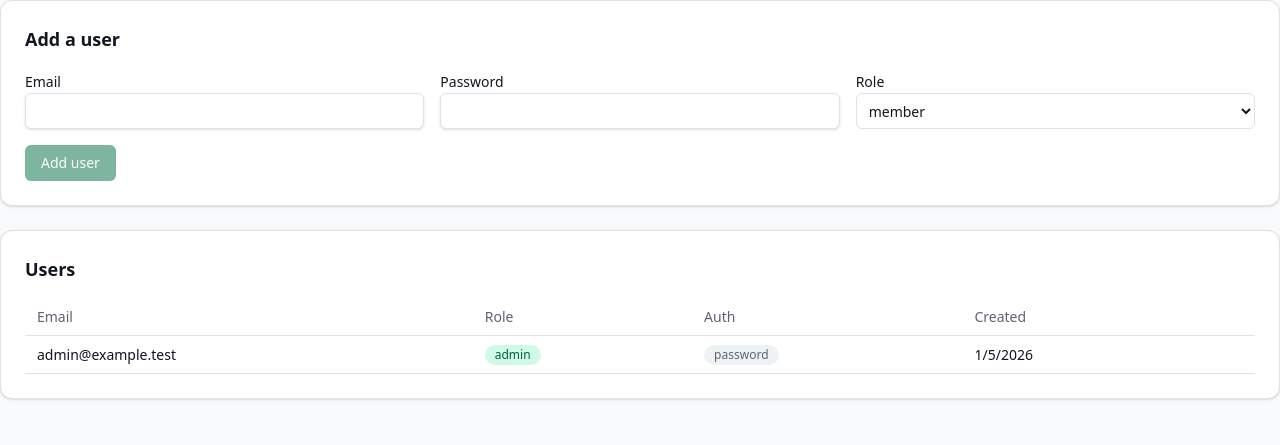
Scenario: Users › shows why the server refused the new user
The image size is (1280, 445).
Expected: the text "admin@example.test" is shown, [25,336,473,374]
Type "admin@example.test" into the field at (225, 111), box [25,93,424,129]
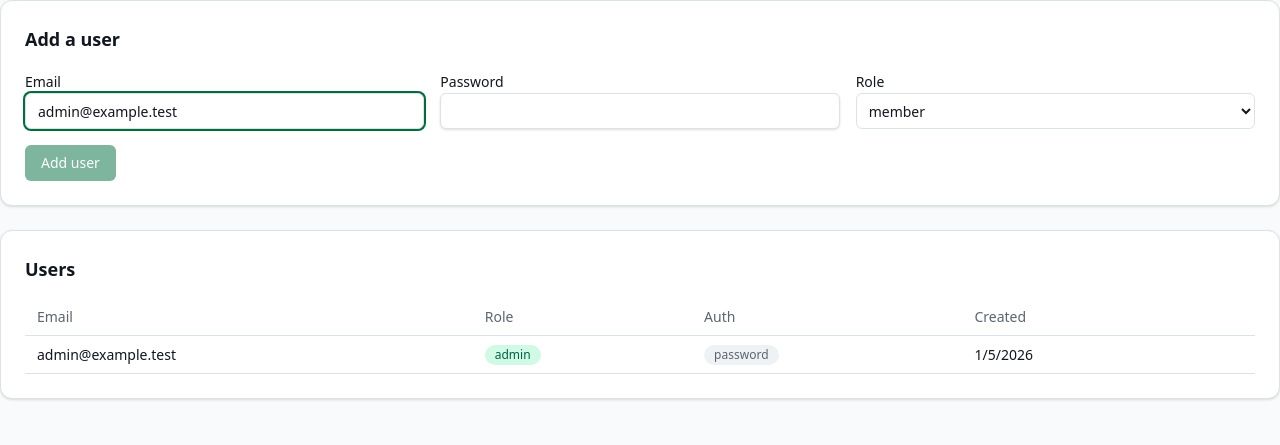
Type "long-enough" into the password field at (640, 111), box [440,93,840,129]
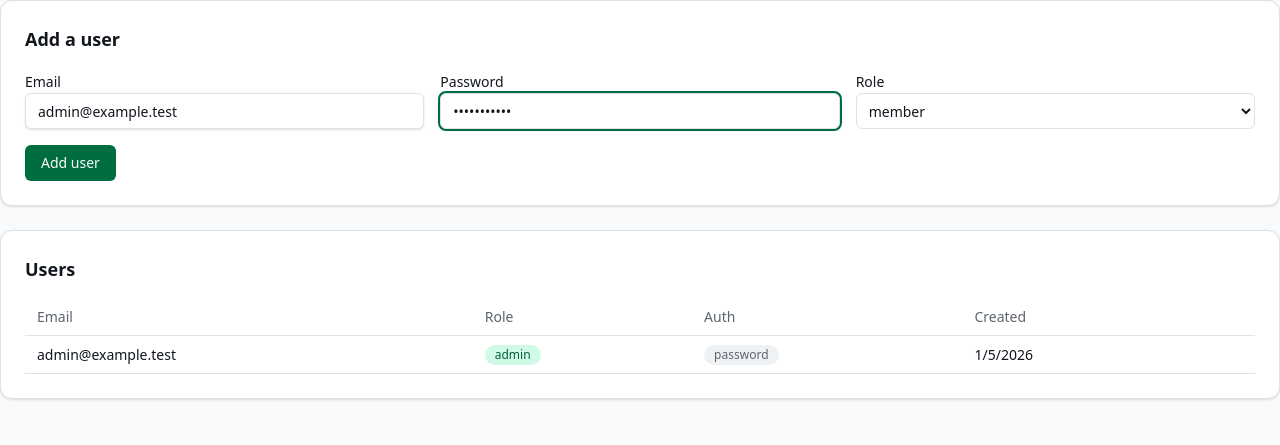
Click the button "Add user" at (70, 163), box [25,145,116,181]
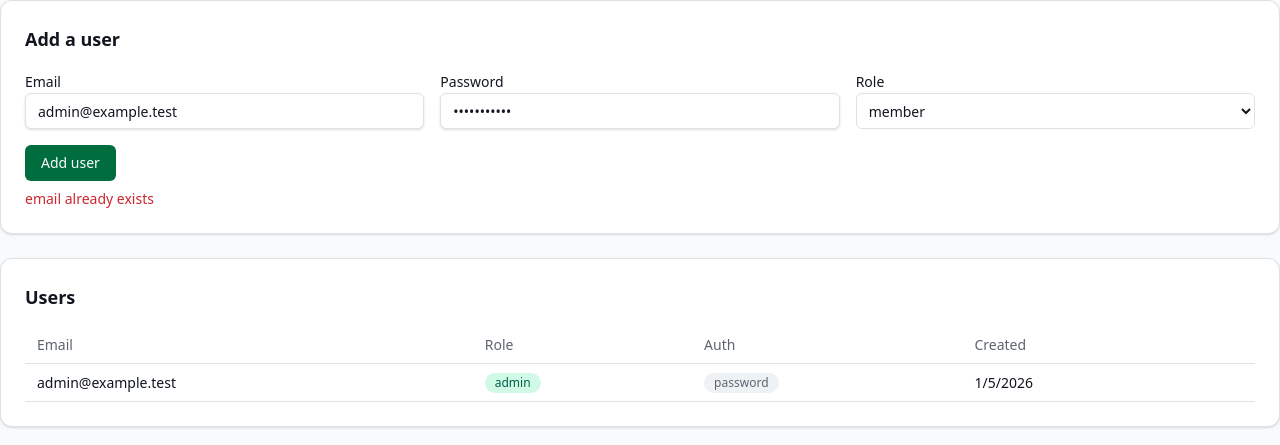
Now the text "email already exists" is shown, box [25,189,154,208]
